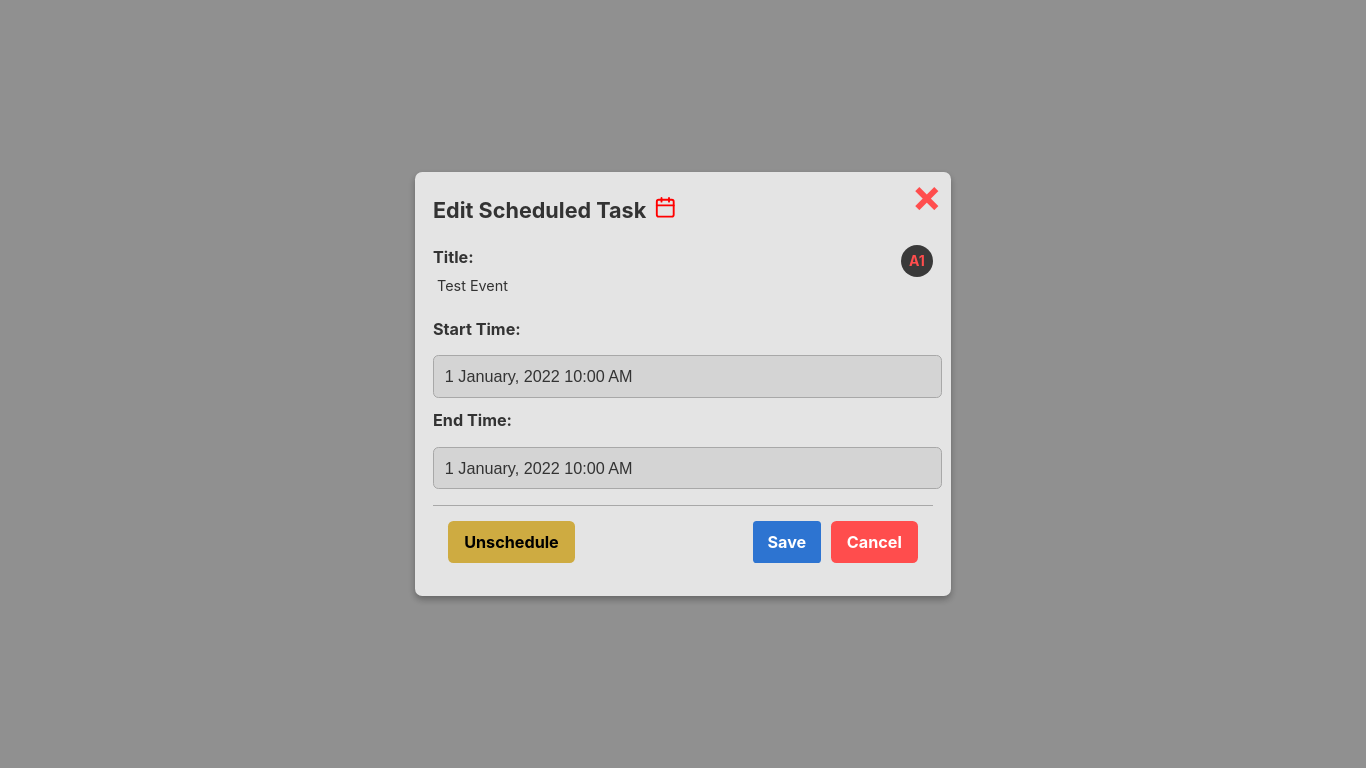
Test: ScheduleEditModal - Integration Tests › shows error when start time and end time are the same
Click the button "Save": (787, 542) [753,522,821,563]
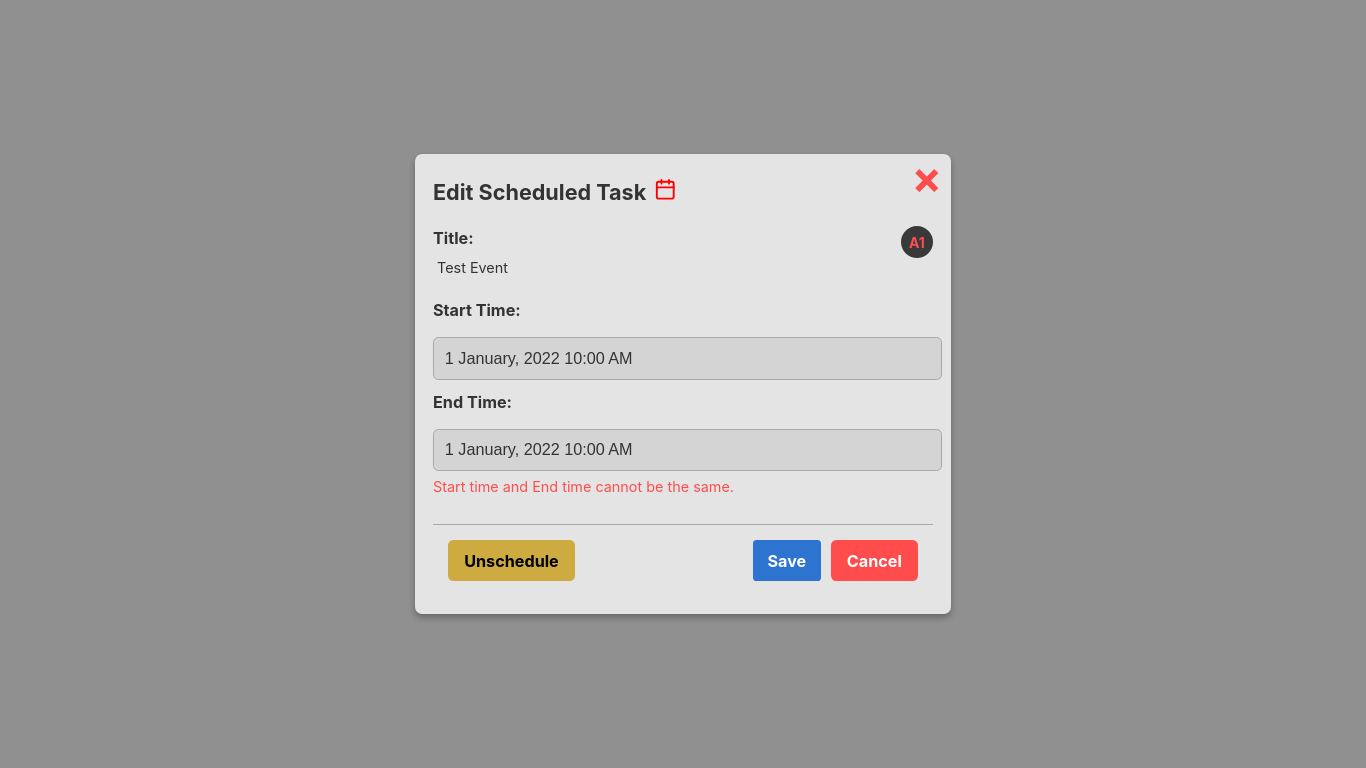
Expected: the text "Start time and End time cannot be the same." is shown, [433,478,734,495]
